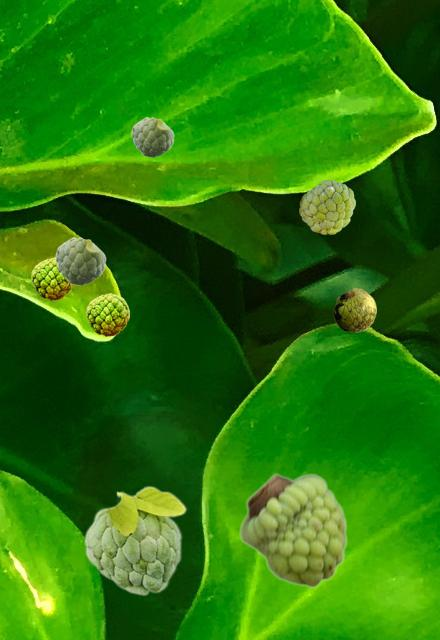atis: (239, 472, 347, 588), (83, 485, 186, 595), (299, 180, 354, 233), (55, 237, 105, 284), (333, 288, 375, 331), (31, 257, 73, 299), (86, 293, 128, 335), (131, 117, 173, 156)
